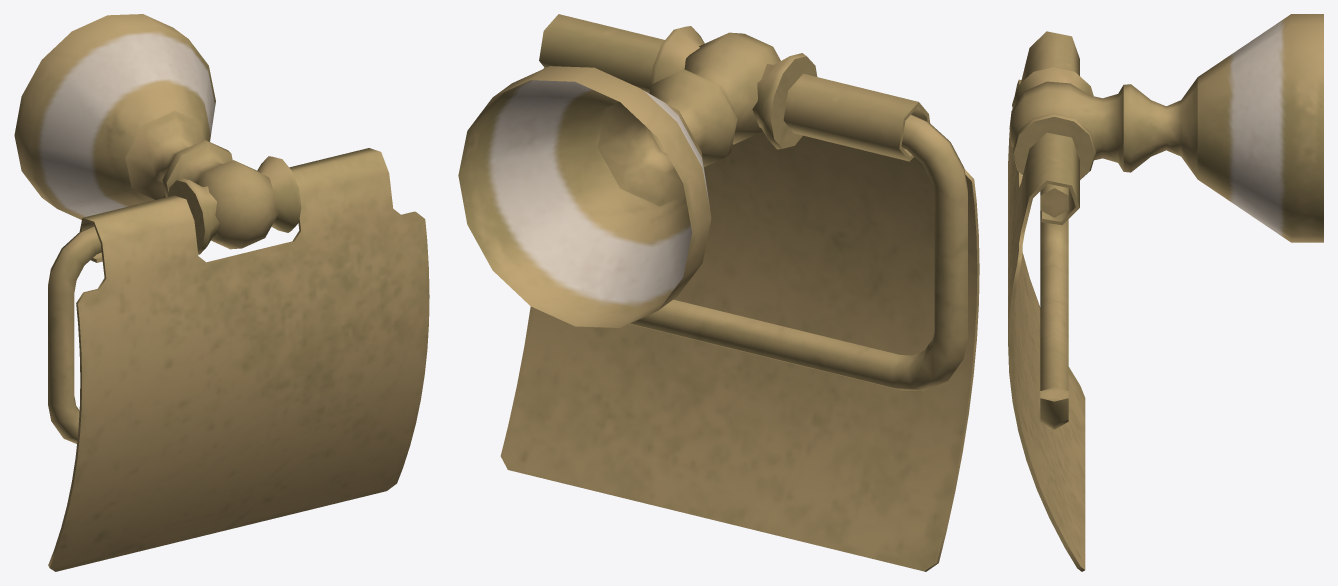
The model's file is ToiletPaperHolder.fbx.
3 views of the same model, side by side, from view 1: azimuth 30°, elevation 25°; view 2: azimuth 150°, elevation 25°; view 3: azimuth 270°, elevation 25° (orthographic). The views are drawn at different scales.
Visible parts, largest first — view 1: ToiletPaperHolder; view 2: ToiletPaperHolder; view 3: ToiletPaperHolder.
Part boxes in pixels (left/top/right/bottom): ToiletPaperHolder: left=14, top=14, right=429, bottom=571; ToiletPaperHolder: left=458, top=14, right=979, bottom=571; ToiletPaperHolder: left=1008, top=14, right=1323, bottom=571.
Bounding box in the file's own units: 13.93 × 15.56 × 9.66.
